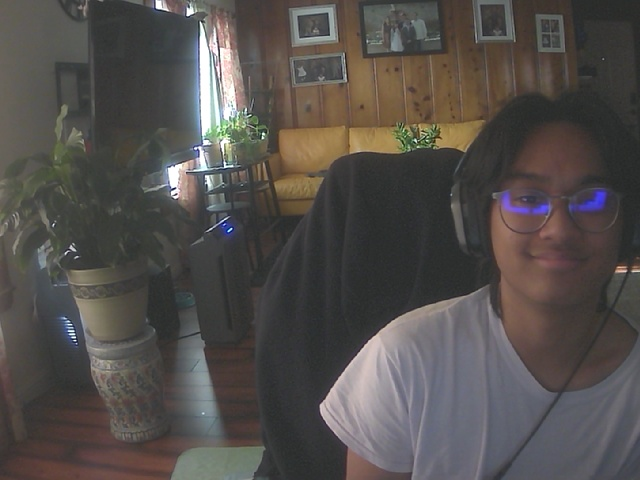happy: (487, 112, 626, 306)
